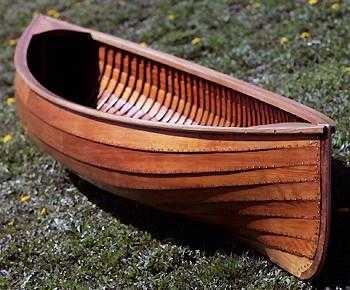kayak: (12, 12, 346, 277)
